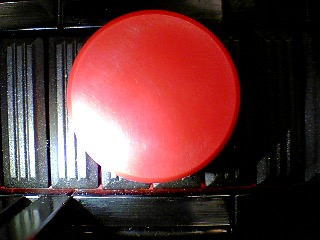BLANK: (66, 9, 241, 184)
